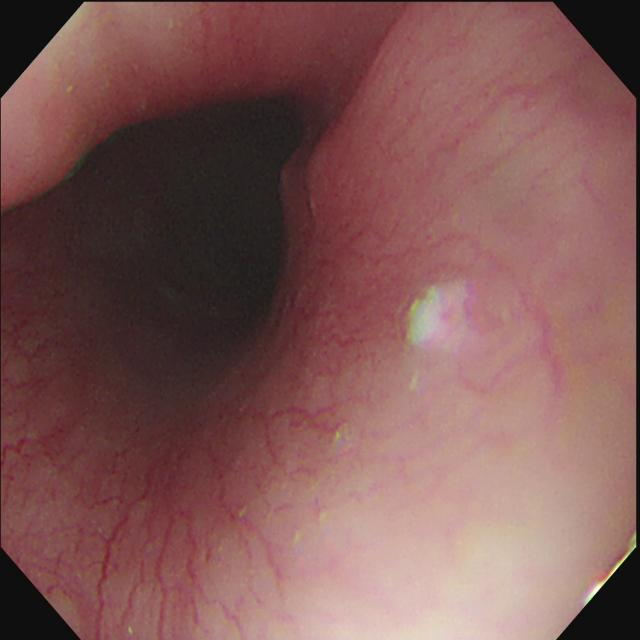E: (74, 104, 279, 338)
